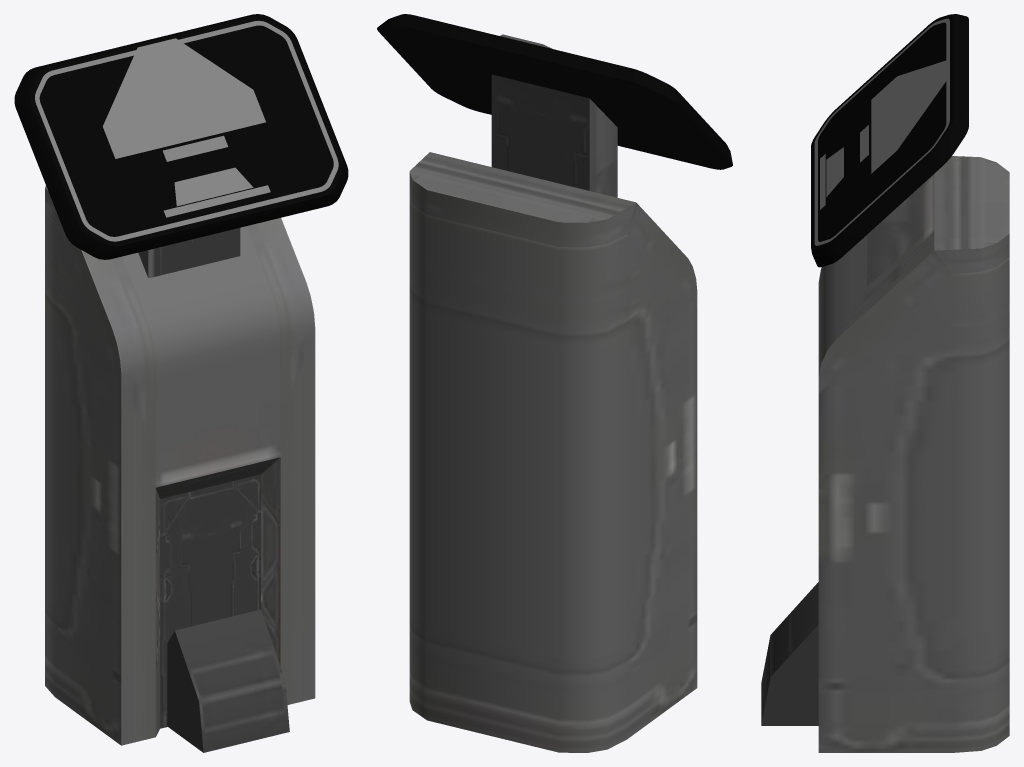
The model's file is Prop_Computer.glb.
The picture shows the model from 3 angles, left to right: view 1: azimuth 30°, elevation 25°; view 2: azimuth 150°, elevation 25°; view 3: azimuth 270°, elevation 25°; orthographic projection. The views are drawn at different scales.
Visible parts, largest first — view 1: Prop_Computer; view 2: Prop_Computer; view 3: Prop_Computer.
Part boxes in pixels (left/top/right/bottom): Prop_Computer: left=14, top=14, right=348, bottom=752; Prop_Computer: left=377, top=14, right=732, bottom=752; Prop_Computer: left=761, top=14, right=1009, bottom=752.
Size of the model in its own units: 0.7434 by 1.59 by 0.5625.
3 materials, 1 textured.
